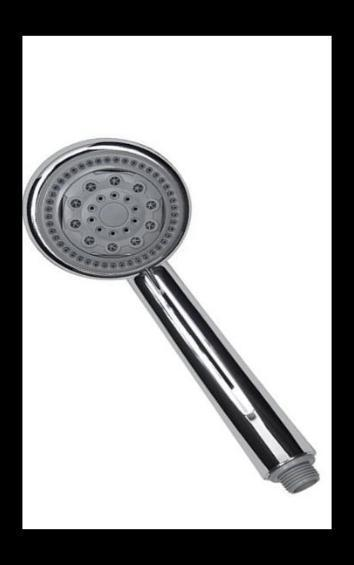Ducha: (23, 136, 331, 495)
